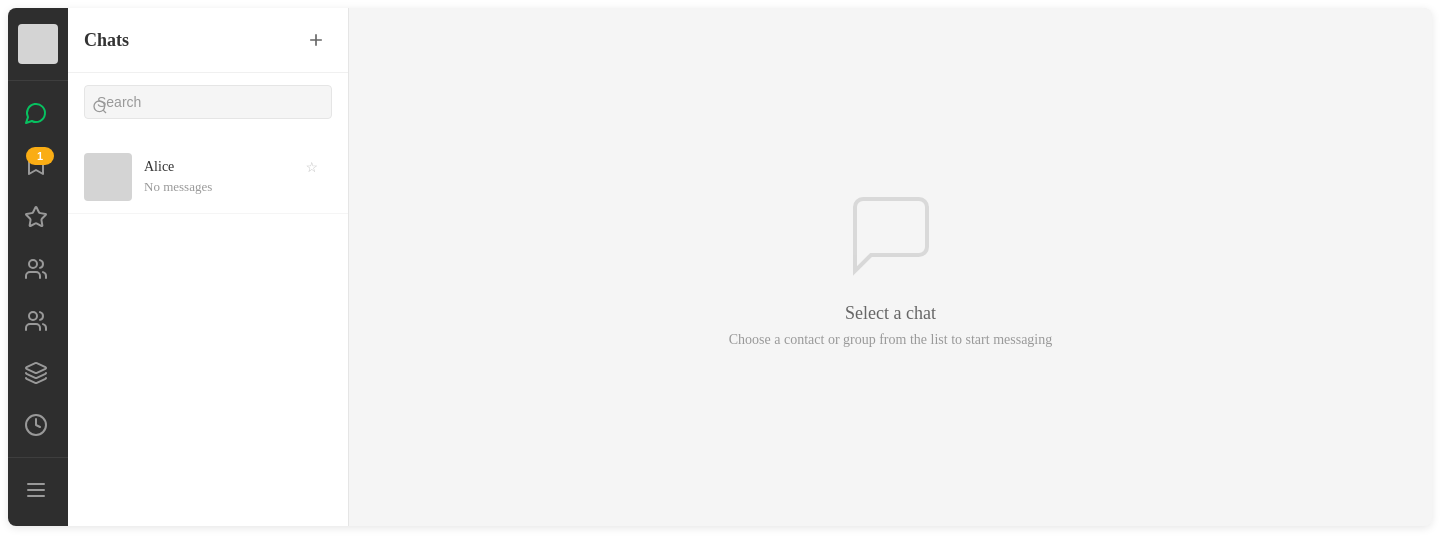
Test: ImMessenger collections › shows saved items in Collections tab
Click the button with class "nav-item" showing "1".
click(36, 165)  # box left=12, top=141, right=60, bottom=189
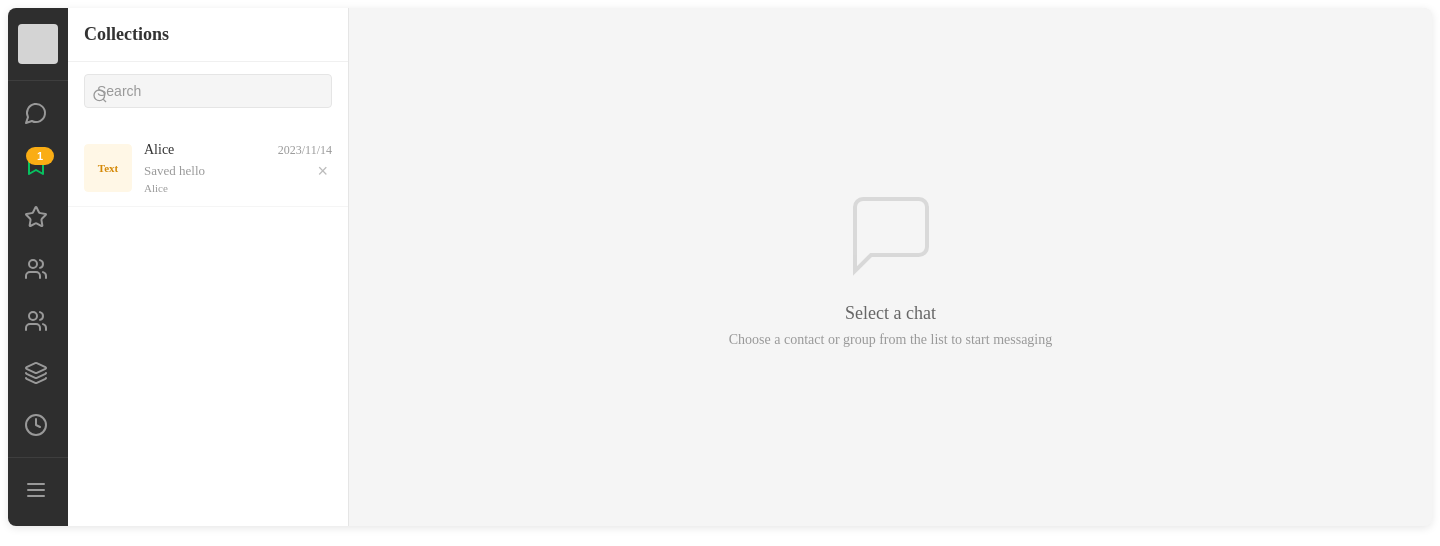
Expected: the heading with class "sidebar-title" reads "Collections", left=84, top=24, right=169, bottom=44
Expected: the list item with class "collection-item" is shown, left=68, top=130, right=348, bottom=207
Expected: the text "Saved hello" is shown, left=144, top=163, right=205, bottom=178
